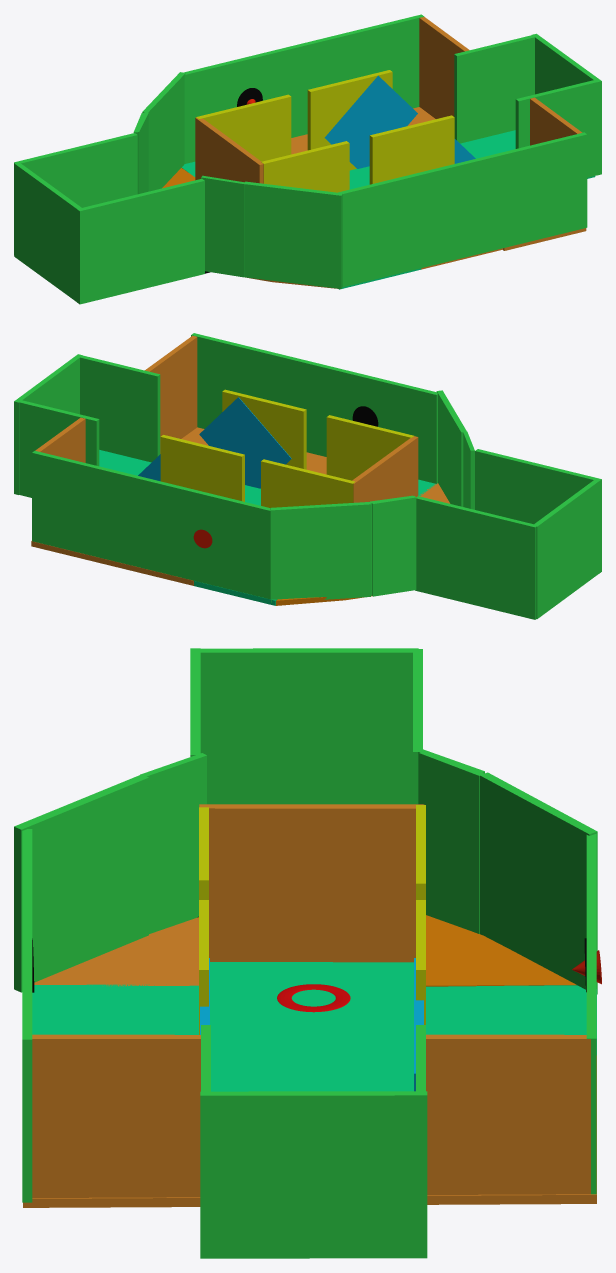
The model's file is lvl7vrode.fbx.
3 views of the same model, one above another, from view 1: azimuth 30°, elevation 25°; view 2: azimuth 150°, elevation 25°; view 3: azimuth 270°, elevation 25° (orthographic). The views are drawn at different scales.
Parts seen in each view (by area): view 1: Cube.011, Cube.014, Cube.031, Cube.026, Cube.001, Cube.032, Cube.030, Cube.008, Cube.025, Cube.027, Cube.006, Cube.022 (+9 smaller); view 2: Cube.014, Cube.011, Cube.030, Cube.022, Cube.002, Cube.032, Cube.031, Cube.024, Cube.005, Cube.012, Cube.028, Cube.007 (+14 smaller); view 3: Cube.003, Cube.032, Cube.029, Cube.012, Cube.013, Cube, Cube.026, Cube.022, Cube.023, Cube.025, Cube.017, Cube.016 (+13 smaller).
Boxes of the visible parts, left/top/right/bottom form: Cube.011: left=338, top=132, right=587, bottom=287; Cube.014: left=184, top=14, right=423, bottom=163; Cube.031: left=77, top=178, right=204, bottom=304; Cube.026: left=244, top=181, right=342, bottom=288; Cube.001: left=454, top=34, right=538, bottom=143; Cube.032: left=14, top=163, right=81, bottom=301; Cube.030: left=14, top=133, right=137, bottom=255; Cube.008: left=369, top=115, right=454, bottom=184; Cube.025: left=201, top=175, right=244, bottom=277; Cube.027: left=196, top=94, right=291, bottom=161; Cube.006: left=324, top=75, right=417, bottom=168; Cube.022: left=142, top=72, right=185, bottom=191; Cube.014: left=32, top=451, right=270, bottom=599; Cube.011: left=191, top=333, right=437, bottom=483; Cube.030: left=415, top=496, right=536, bottom=619; Cube.022: left=270, top=502, right=370, bottom=602; Cube.002: left=76, top=354, right=160, bottom=462; Cube.032: left=534, top=479, right=600, bottom=618; Cube.031: left=475, top=449, right=601, bottom=573; Cube.024: left=372, top=496, right=416, bottom=596; Cube.005: left=160, top=435, right=244, bottom=501; Cube.012: left=145, top=335, right=197, bottom=453; Cube.028: left=326, top=415, right=413, bottom=480; Cube.007: left=199, top=397, right=291, bottom=488; Cube.003: left=200, top=1091, right=427, bottom=1258; Cube.032: left=193, top=648, right=418, bottom=804; Cube.029: left=199, top=804, right=424, bottom=962; Cube.012: left=32, top=1034, right=200, bottom=1197; Cube.013: left=426, top=1034, right=590, bottom=1194; Cube: left=210, top=962, right=413, bottom=1091; Cube.026: left=14, top=774, right=148, bottom=992; Cube.022: left=480, top=772, right=597, bottom=994; Cube.023: left=419, top=751, right=483, bottom=933; Cube.025: left=140, top=753, right=206, bottom=933; Cube.017: left=32, top=984, right=198, bottom=1034; Cube.016: left=426, top=985, right=596, bottom=1054.
Bounding box in the file's own units: 980 × 176 × 544.
